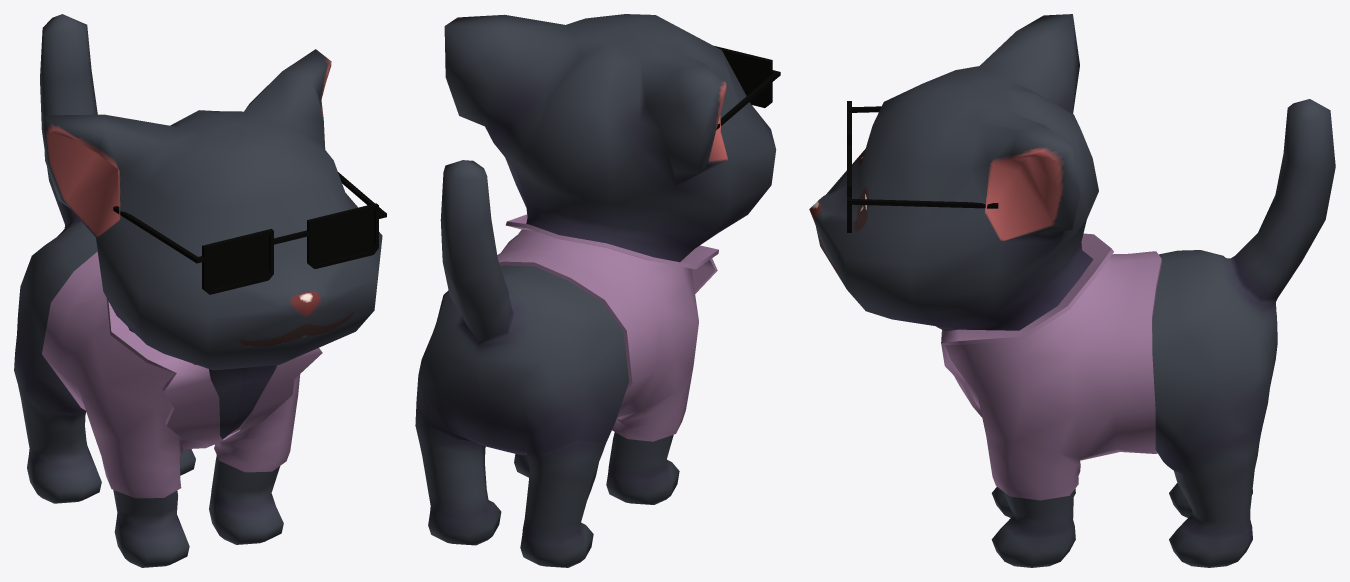
Rendered from Theater Cat03.fbx.
The picture shows the model from 3 angles, left to right: view 1: azimuth 30°, elevation 25°; view 2: azimuth 150°, elevation 25°; view 3: azimuth 270°, elevation 25°; orthographic projection. The views are drawn at different scales.
Visible parts, largest first — view 1: Cat_Base002, TS_Cat_Shirt, Theater_Cat_Glasses; view 2: Cat_Base002, TS_Cat_Shirt, Theater_Cat_Glasses; view 3: Cat_Base002, TS_Cat_Shirt, Theater_Cat_Glasses.
Part boxes in pixels (x1=…): Cat_Base002: x1=14, y1=14, x2=382, y2=567; TS_Cat_Shirt: x1=42, y1=251, x2=322, y2=498; Theater_Cat_Glasses: x1=113, y1=172, x2=386, y2=294; Cat_Base002: x1=415, y1=14, x2=776, y2=567; TS_Cat_Shirt: x1=497, y1=214, x2=718, y2=441; Theater_Cat_Glasses: x1=714, y1=46, x2=780, y2=129; Cat_Base002: x1=809, y1=14, x2=1335, y2=567; TS_Cat_Shirt: x1=941, y1=233, x2=1161, y2=500; Theater_Cat_Glasses: x1=847, y1=101, x2=998, y2=232.
Size of the model in its own units: 1.75 by 2.83 by 2.68.
Materials: 4 (1 with a texture image).
